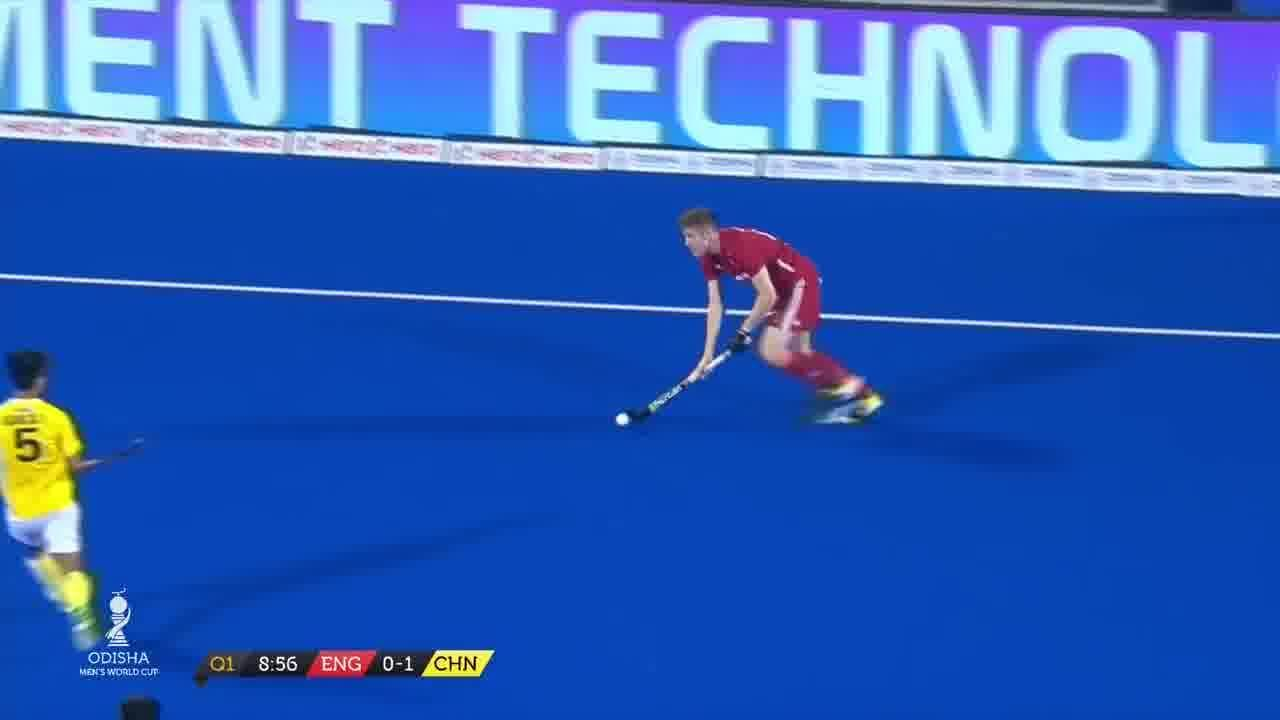ball: (612, 405, 647, 435)
